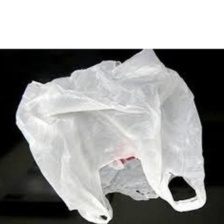plastic_bag: (14, 46, 208, 224)
